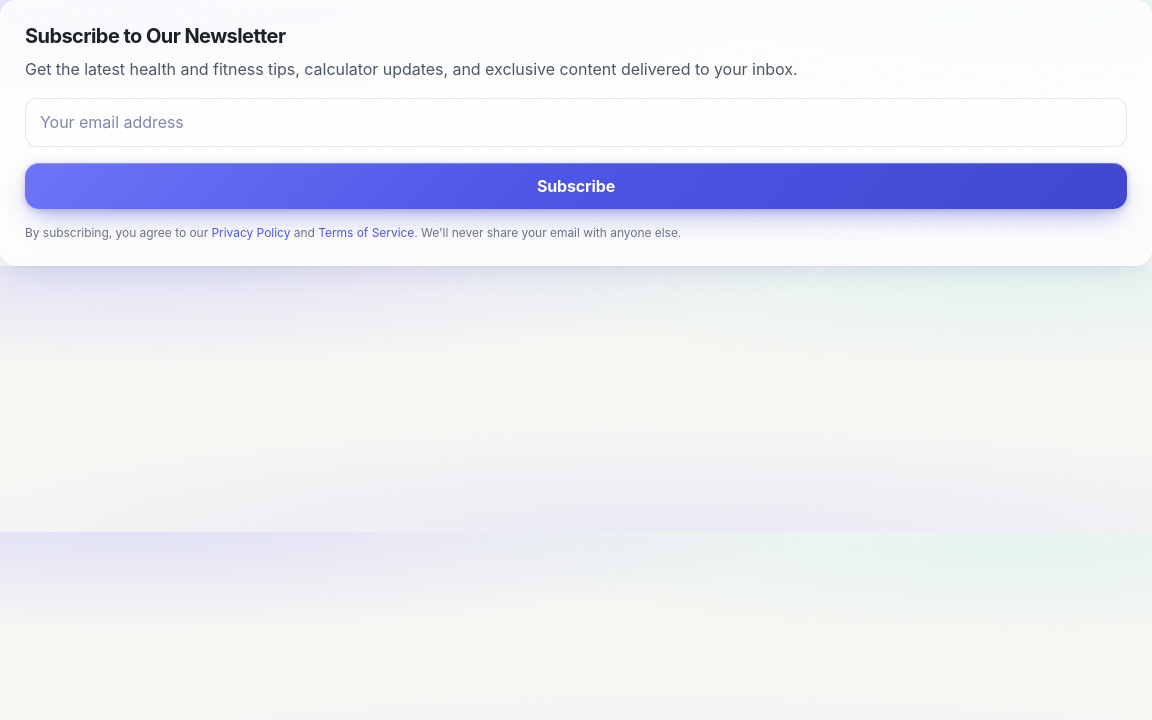
Test: NewsletterSignup › Error States › should display generic error on exception
Type "test@example.com" into the field labelled "Your email address" at (576, 123), box [25,98,1127,147]
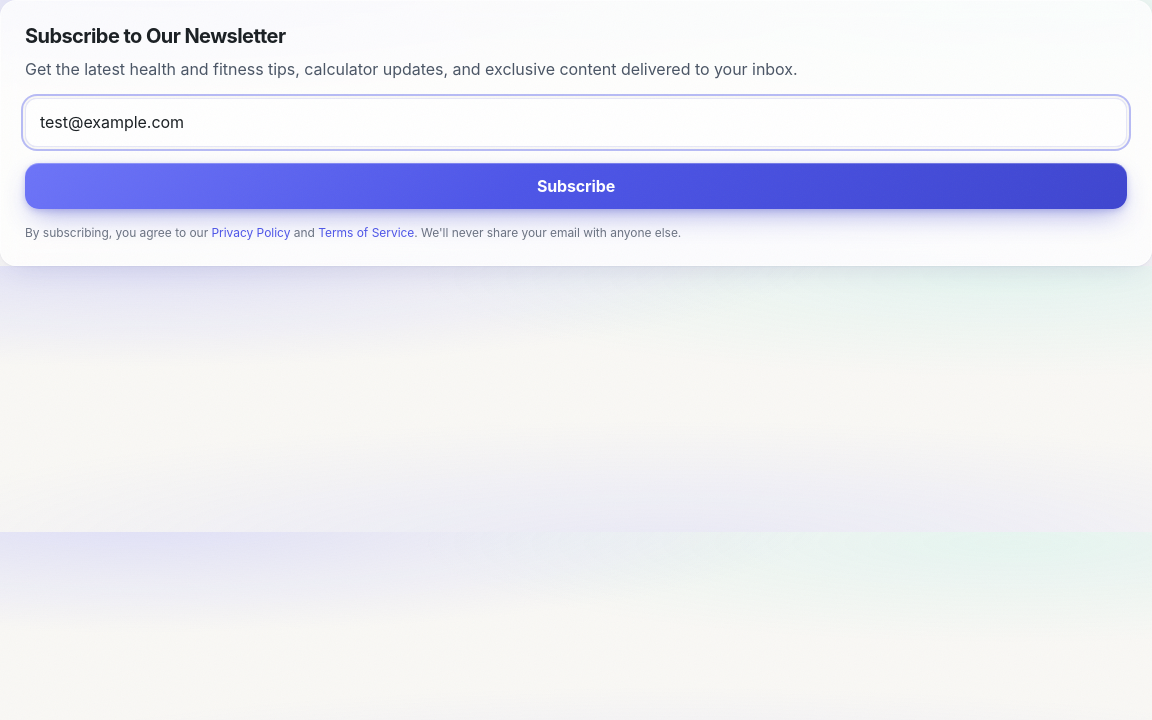
Click the button "Subscribe" at (576, 186), box [25,163,1127,209]
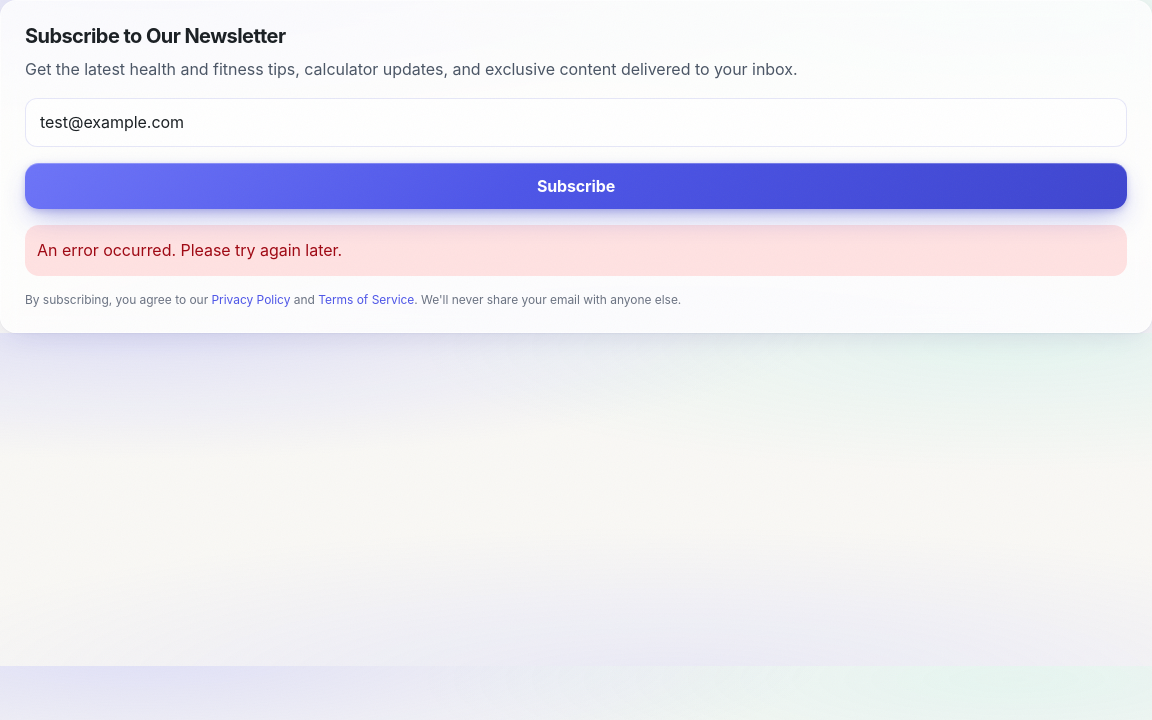
Result: the message shows "An error occurred. Please try again later" at [37,240,342,260]
